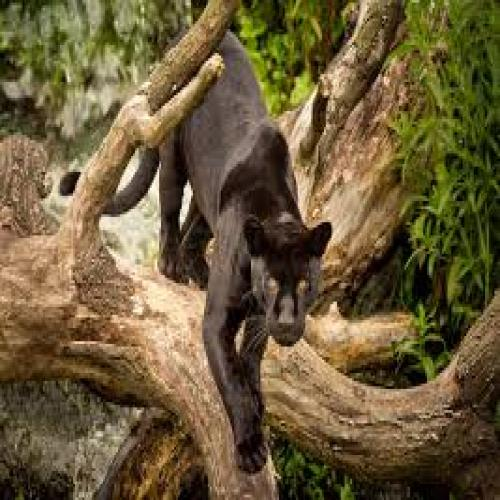panther-endangered: (100, 18, 338, 471)
